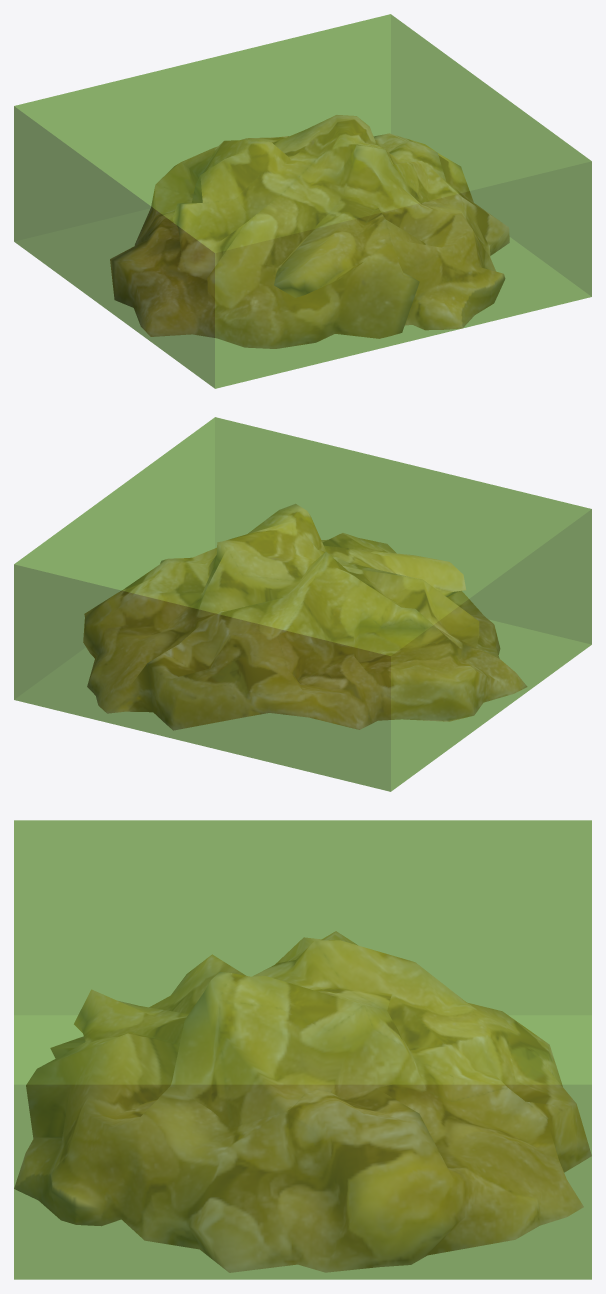
The model's file is pg_dried_fruit_01_c.fbx.
The picture shows the model from 3 angles, top to bottom: view 1: azimuth 30°, elevation 25°; view 2: azimuth 150°, elevation 25°; view 3: azimuth 270°, elevation 25°; orthographic projection. The views are drawn at different scales.
Parts seen in each view (by area): view 1: pg_dried_fruit_01_c_col, pg_dried_fruit_01_c_LOD0; view 2: pg_dried_fruit_01_c_col, pg_dried_fruit_01_c_LOD0; view 3: pg_dried_fruit_01_c_col, pg_dried_fruit_01_c_LOD0.
Boxes of the visible parts, <box> form: pg_dried_fruit_01_c_col: <box>14,14,591,388</box>; pg_dried_fruit_01_c_LOD0: <box>110,115,509,348</box>; pg_dried_fruit_01_c_col: <box>14,417,591,791</box>; pg_dried_fruit_01_c_LOD0: <box>83,504,527,730</box>; pg_dried_fruit_01_c_col: <box>14,820,591,1279</box>; pg_dried_fruit_01_c_LOD0: <box>14,931,591,1272</box>.
Size of what is drawn, in the model's own units: 25.39 by 8.73 by 23.47.
2 materials, 1 textured.
